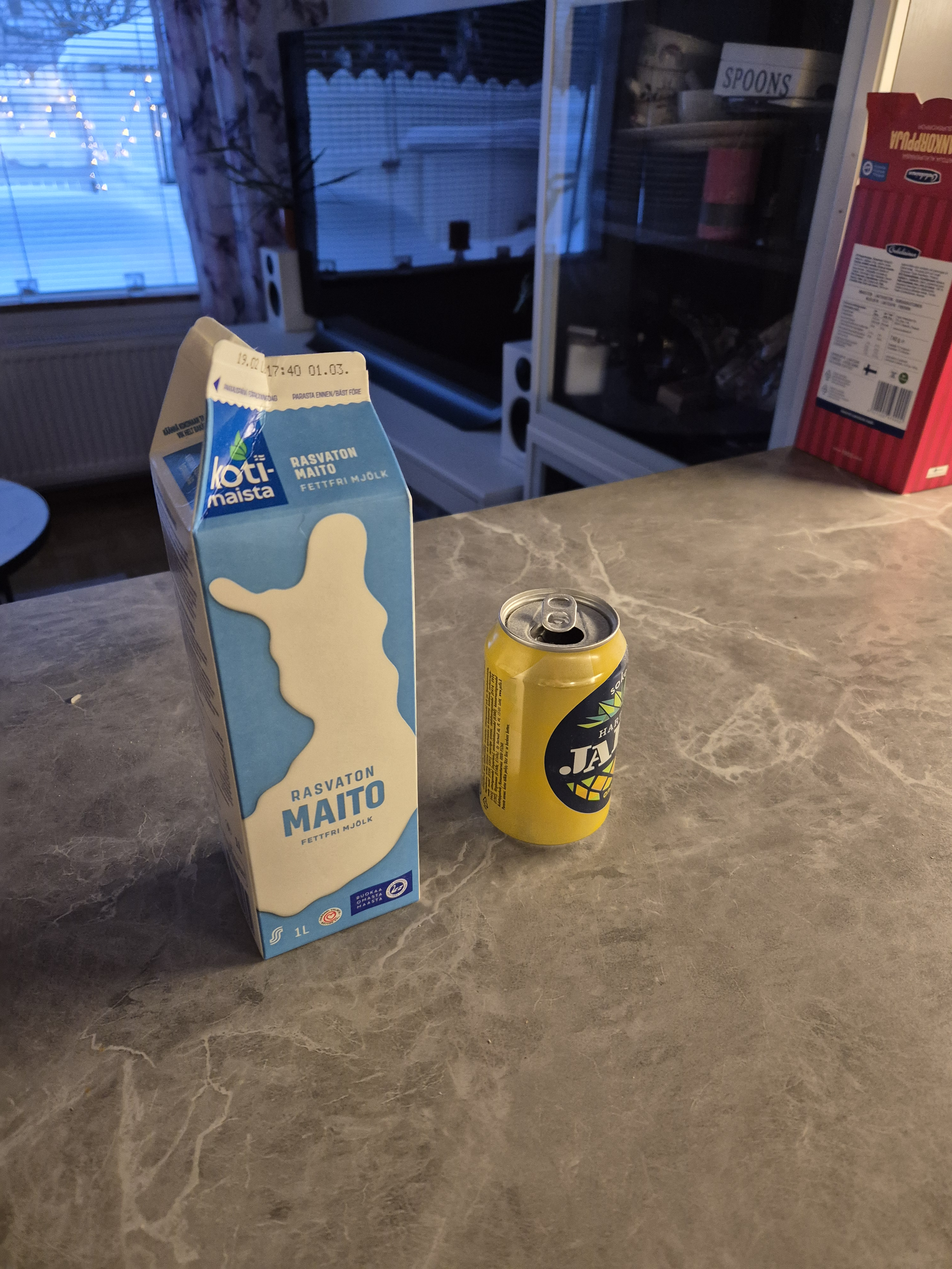Dryckeskartong: (148, 315, 422, 961)
Pantburk: (477, 585, 630, 853)
